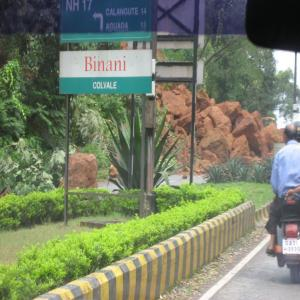Vehicle-registration-plate: (283, 239, 300, 256)
